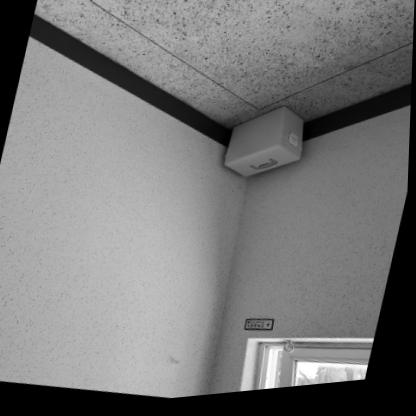DDL: (220, 100, 311, 192)
